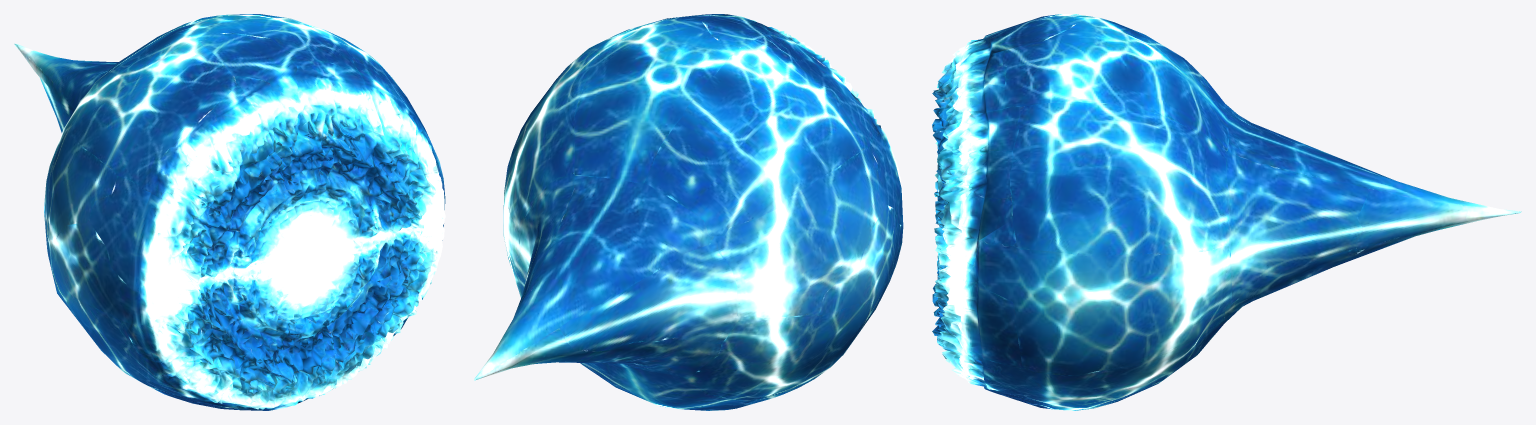
Rendered from proj_blue2.glb.
The picture shows the model from 3 angles, left to right: view 1: azimuth 30°, elevation 25°; view 2: azimuth 150°, elevation 25°; view 3: azimuth 270°, elevation 25°; orthographic projection.
Parts seen in each view (by area): view 1: mesh_node; view 2: mesh_node; view 3: mesh_node.
Boxes of the visible parts, x1,y1,x2,y2 form: mesh_node: (14, 14, 445, 410); mesh_node: (474, 14, 903, 410); mesh_node: (932, 14, 1521, 410).
Size of the model in its own units: 1.28 by 1.27 by 1.89.
Materials: 1 (1 with a texture image).
